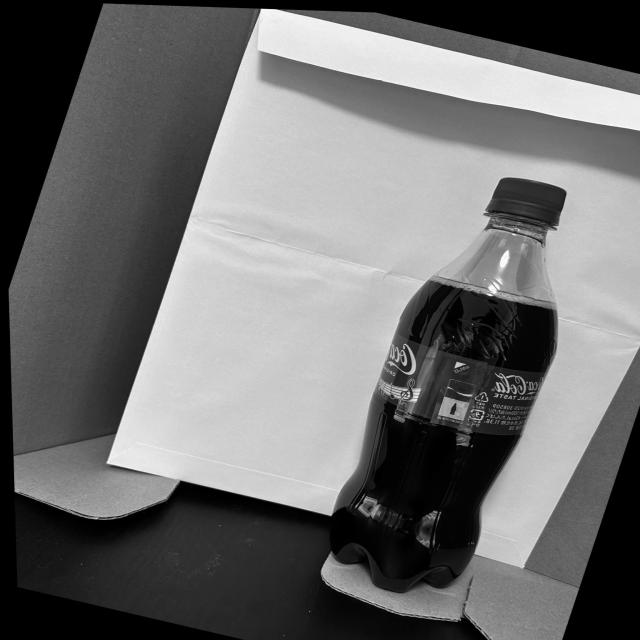high: (330, 178, 565, 591)
